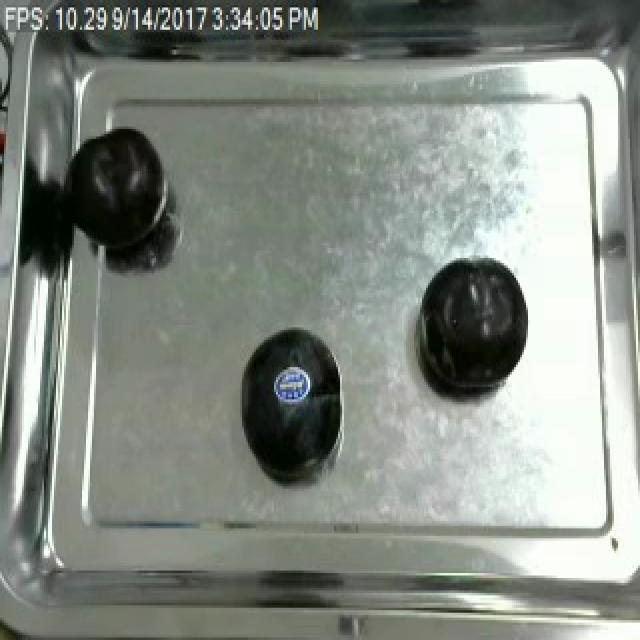Fruit: (234, 318, 346, 477), (416, 253, 532, 399), (78, 122, 174, 260)
